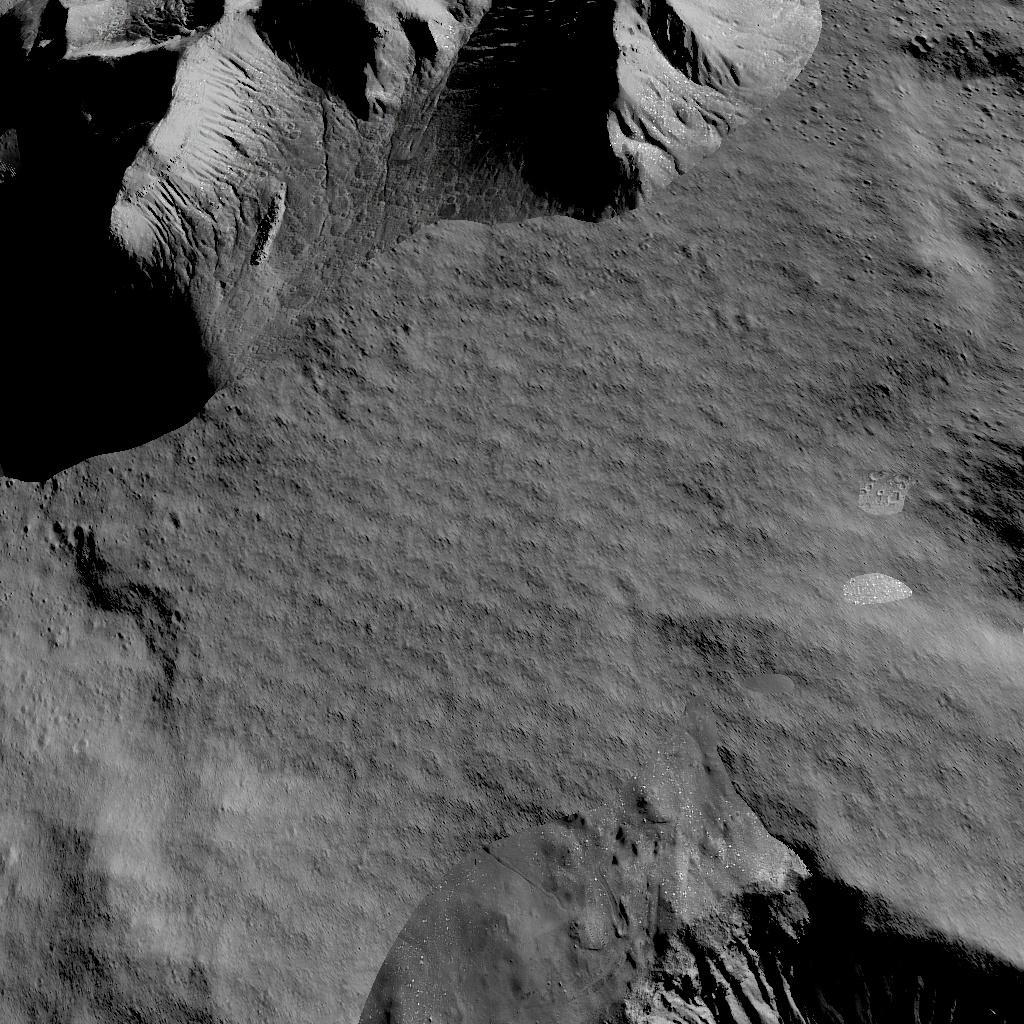Boulders: (6, 0, 832, 404)
Crater: (439, 806, 1024, 1024), (943, 418, 1024, 600), (899, 10, 945, 68)
Plan surface: (0, 488, 408, 1024), (437, 424, 921, 770), (851, 90, 1024, 394)
